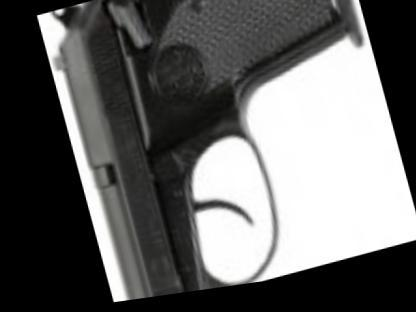pistol: (34, 0, 411, 307)
